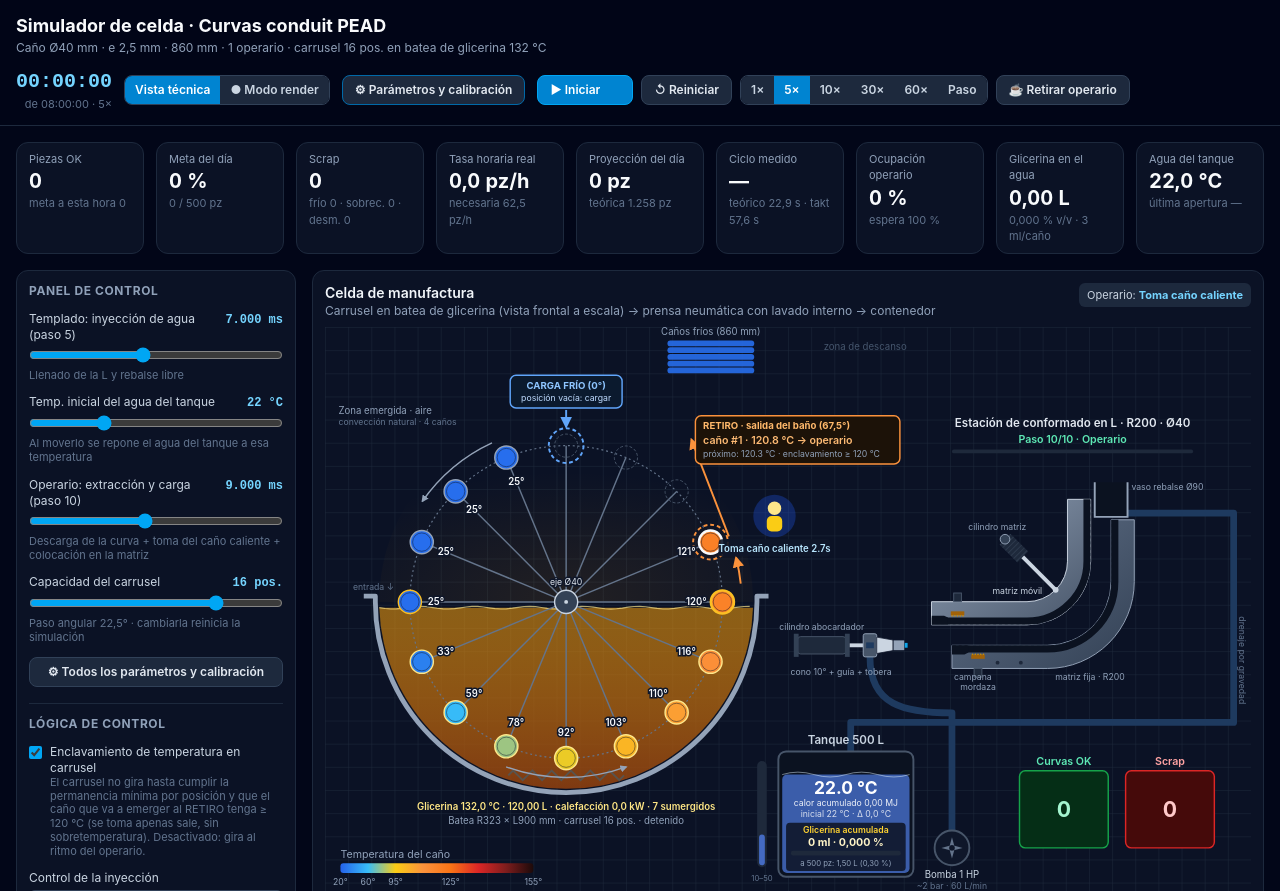
it: panel de parámetros y calibración › presets de un clic y restablecer a valores nominales
Click the button "⚙ Parámetros y calibración". click: (434, 90)
box: [342,75,526,105]
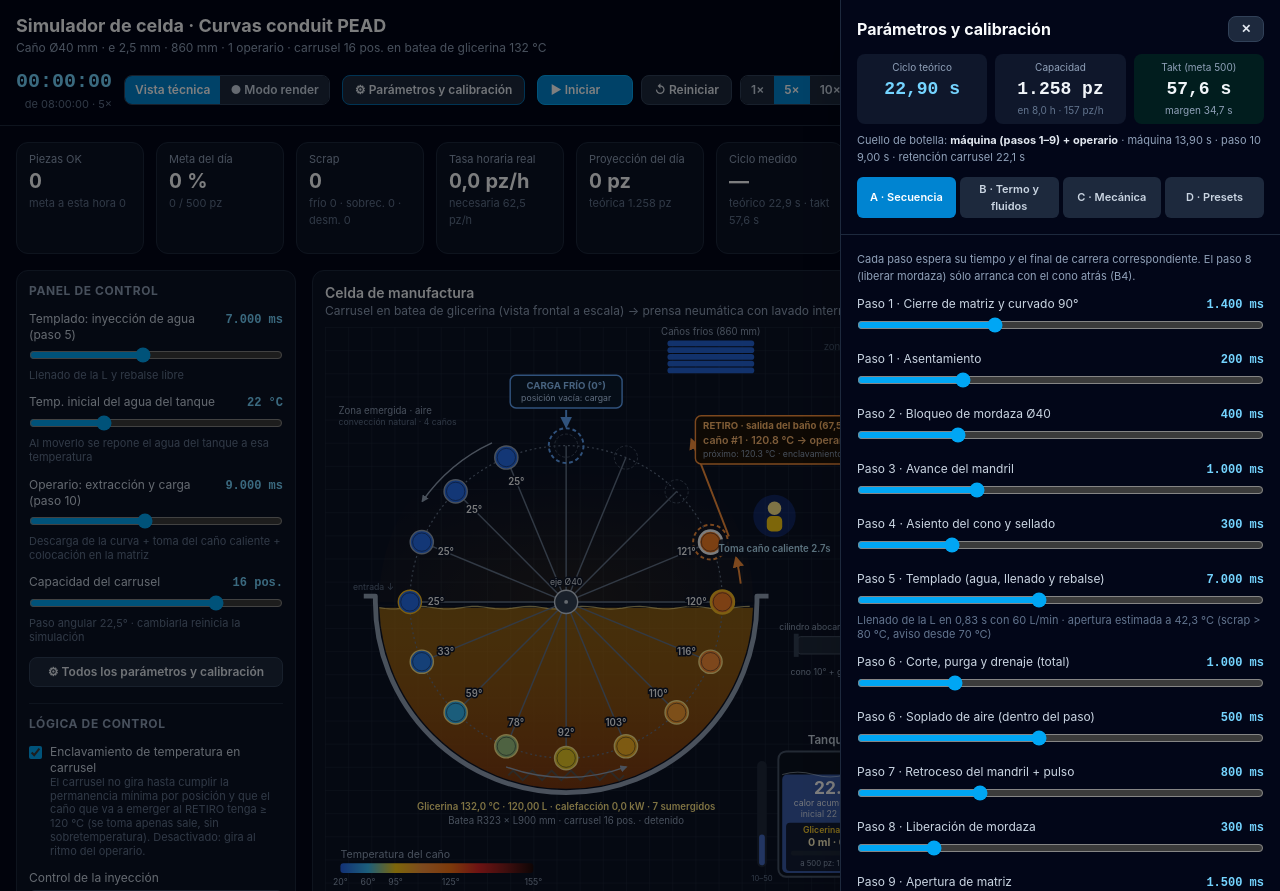
Click the tab "D · Presets". click: (1215, 198)
box: [1165,177,1264,218]
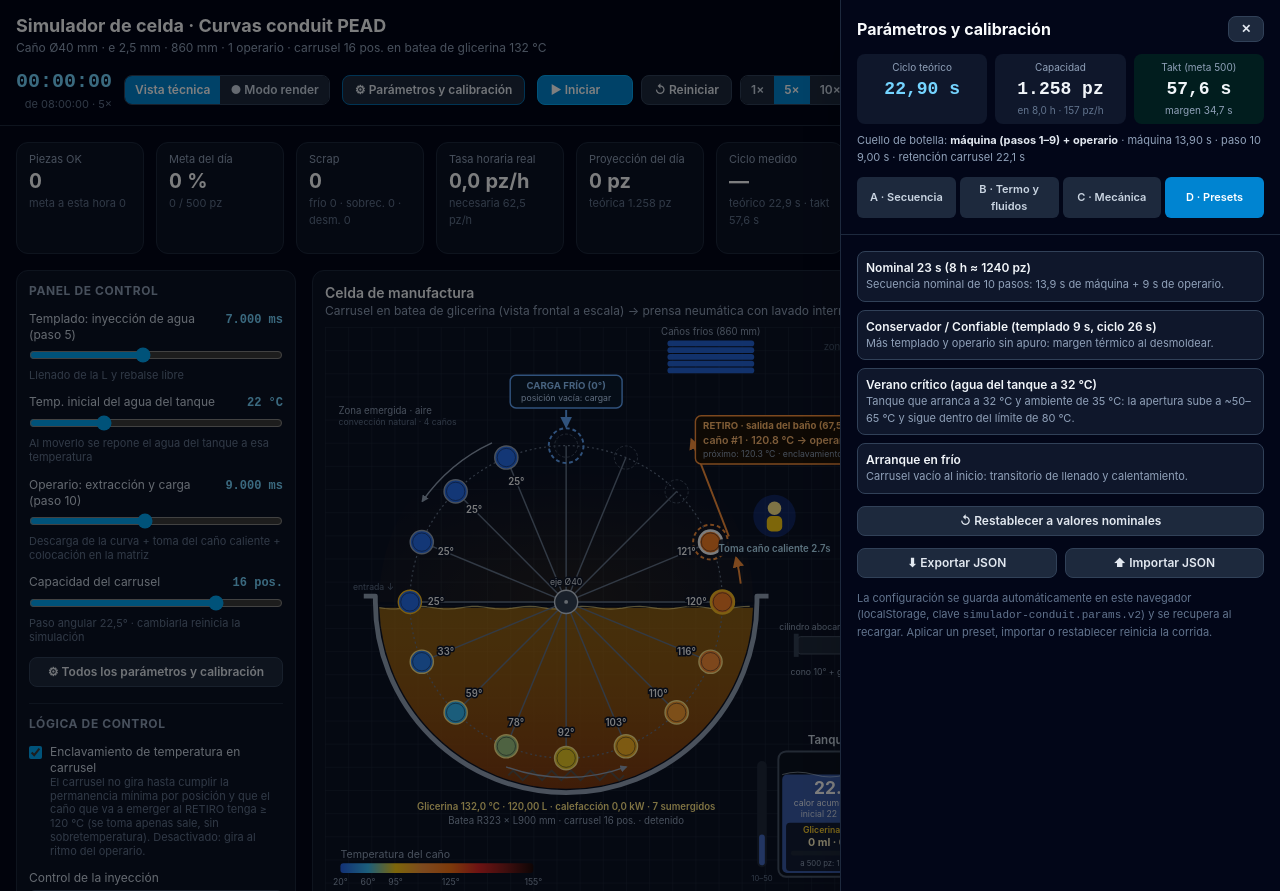
Click the button "Conservador". click: (1060, 335)
box: [857,310,1264,360]
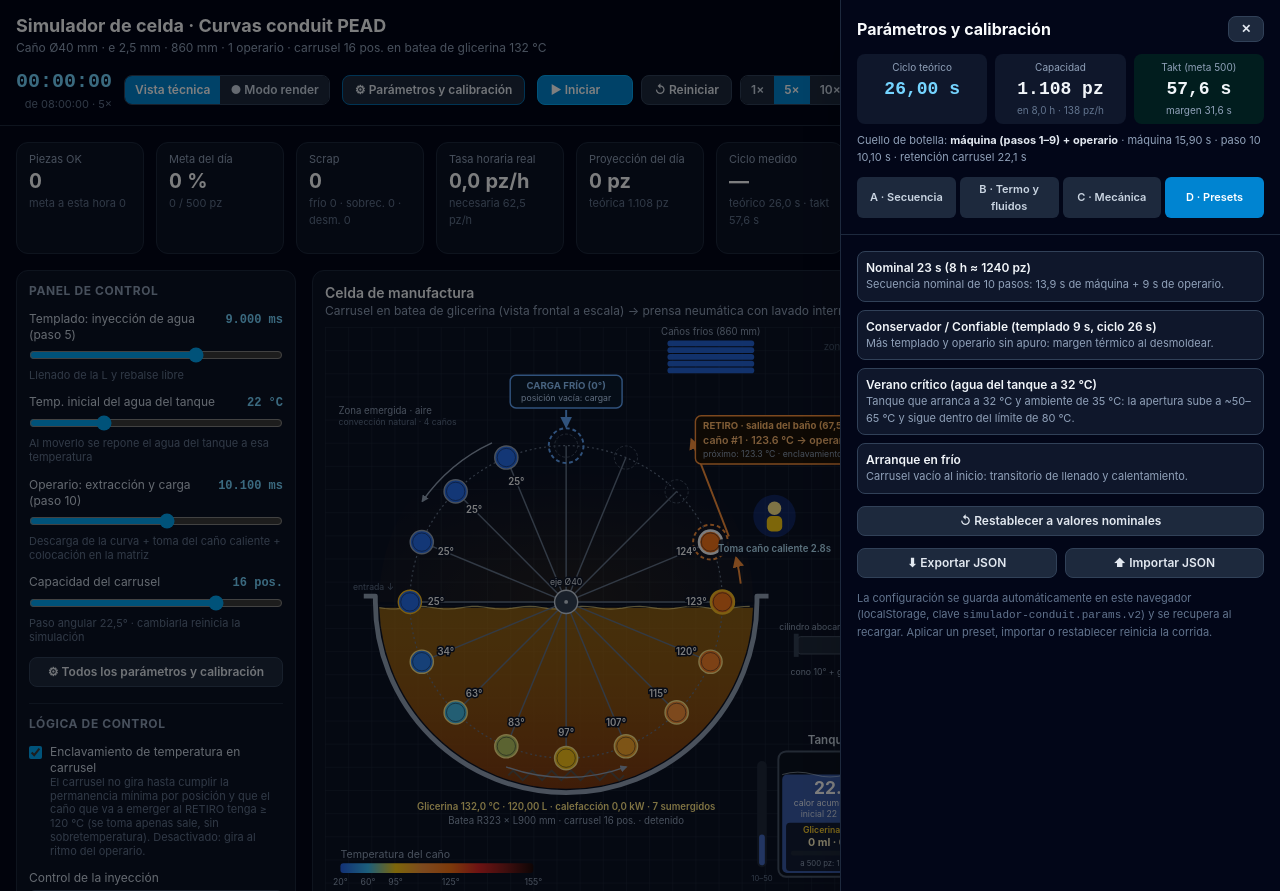
Check: the text with test id "drawer-cycle" reads "26,00 s", box [884,79,960,99]
Click the button "↺ Restablecer a valores nominales". click: (1060, 520)
box: [857,506,1264,536]
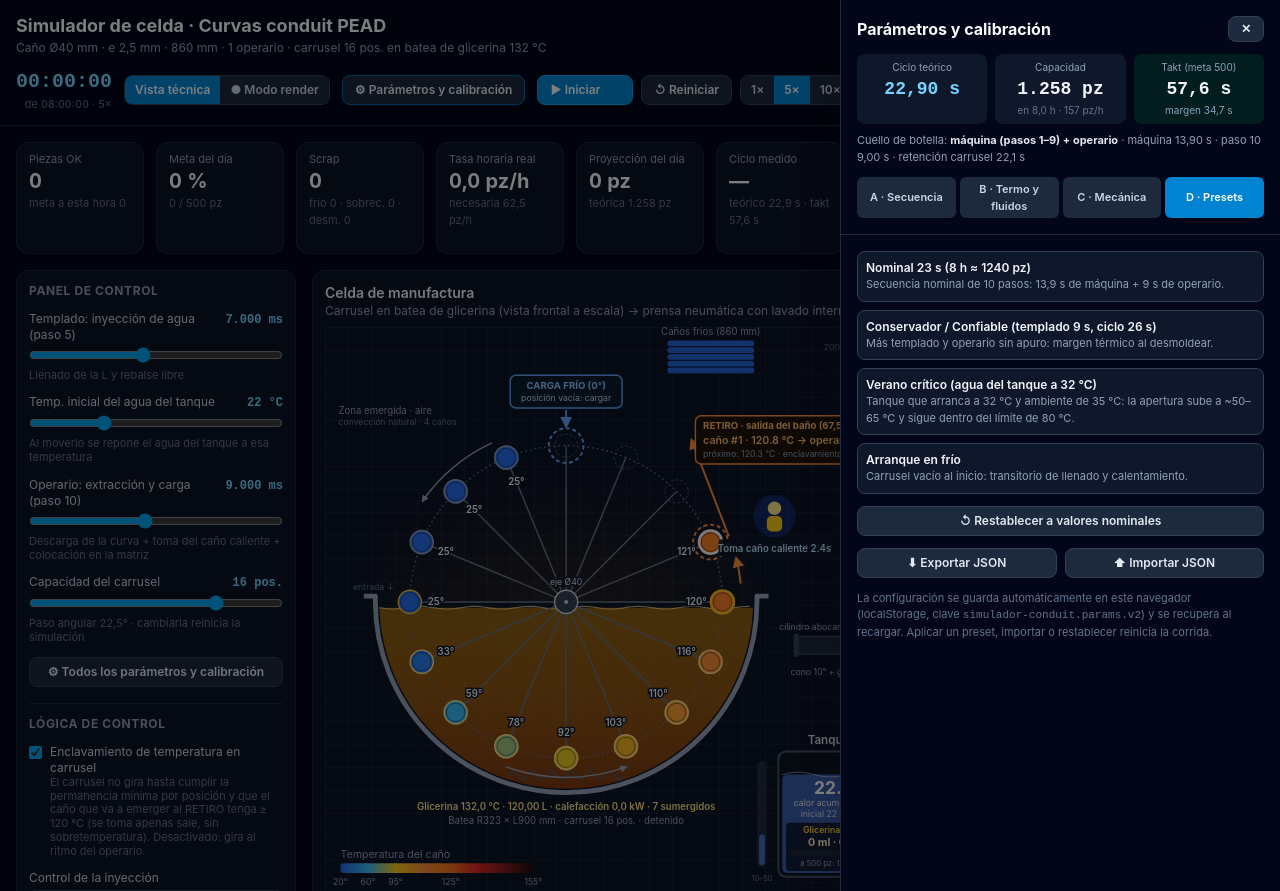
Check: the text with test id "drawer-cycle" reads "22,90 s", box [884,79,960,99]
